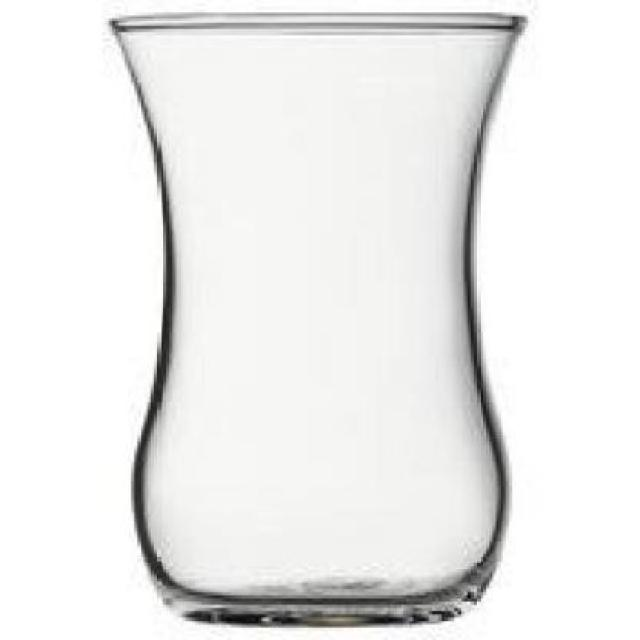kaca: (106, 9, 522, 622)
